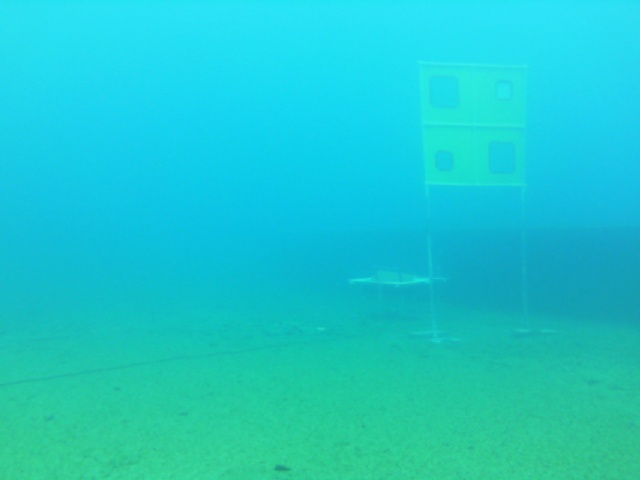torpedo_cover: (496, 80, 515, 107)
torpedo_hole: (430, 76, 461, 112), (488, 141, 518, 177), (439, 149, 457, 171), (496, 83, 512, 106)
torpedo_target: (415, 58, 539, 187)
